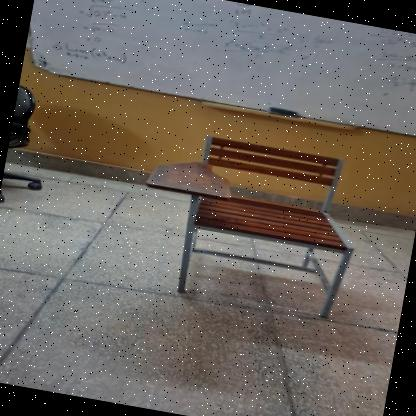chair: (120, 117, 376, 330)
